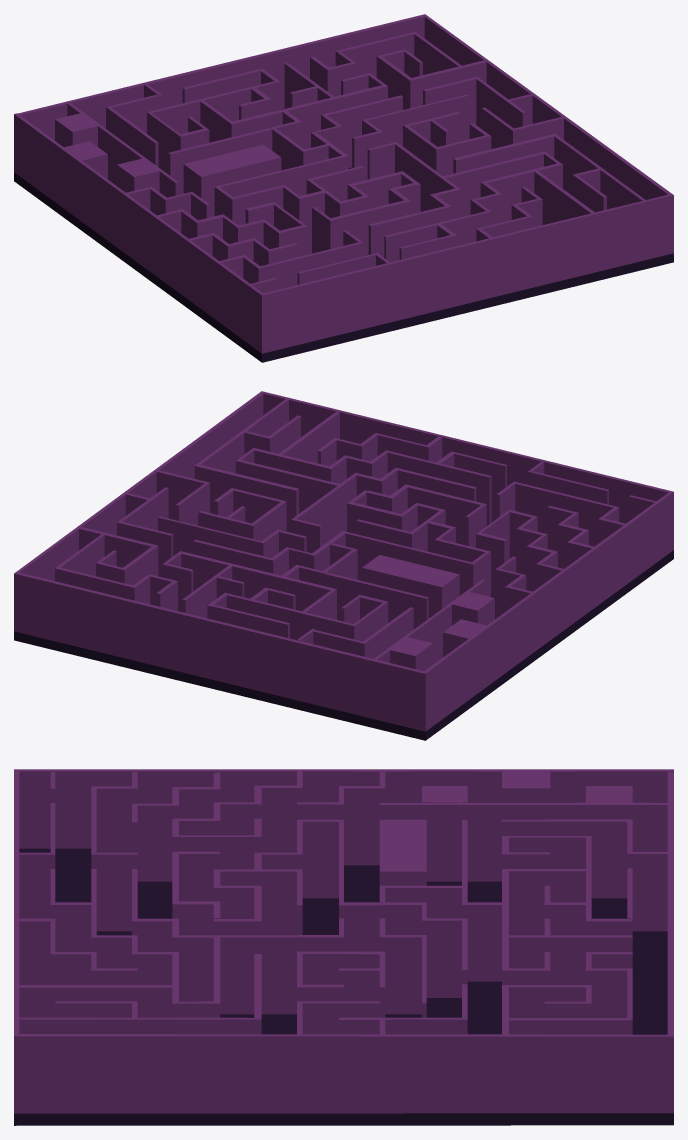
Rendered from laberinto.fbx.
3 renders of one model, top to bottom at view 1: azimuth 30°, elevation 25°; view 2: azimuth 150°, elevation 25°; view 3: azimuth 270°, elevation 25°, orthographic. The views are drawn at different scales.
Visible parts, largest first — view 1: pared; view 2: pared; view 3: pared.
Boxes of the visible parts, x1,y1,x2,y2 form: pared: (14,14,673,362); pared: (14,391,673,740); pared: (14,769,673,1125).
Bounding box in the file's own units: 4390 × 686 × 4581.
